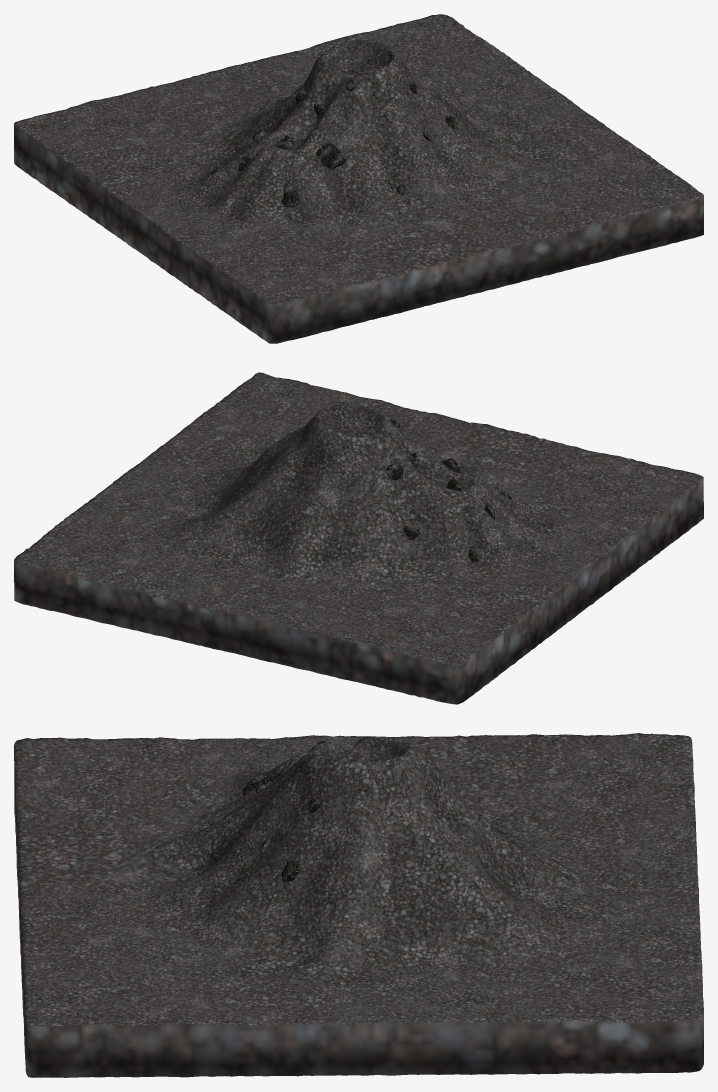
The model's file is Volcano7withRocks.fbx.
3 renders of one model, top to bottom at view 1: azimuth 30°, elevation 25°; view 2: azimuth 150°, elevation 25°; view 3: azimuth 270°, elevation 25°, orthographic. The views are drawn at different scales.
Visible parts, largest first — view 1: AllJoined; view 2: AllJoined; view 3: AllJoined.
Boxes of the visible parts, x1,y1,x2,y2 form: AllJoined: (14,14,703,343); AllJoined: (14,372,703,704); AllJoined: (14,733,703,1077).
Size of the model in its own units: 3050 by 935 by 3051.
